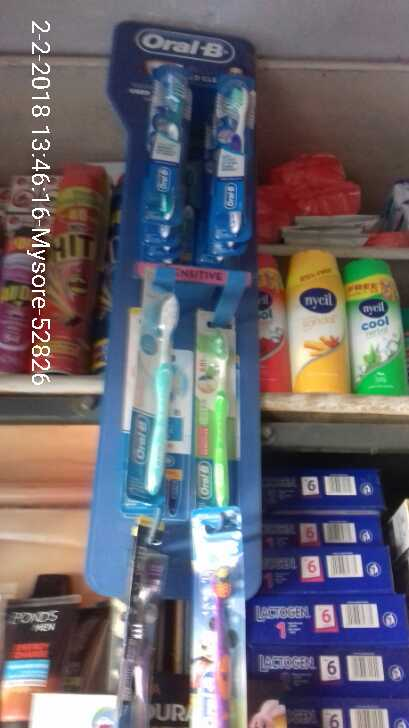oralb: (119, 259, 179, 522), (197, 59, 251, 263), (134, 61, 190, 252), (187, 318, 235, 502)
